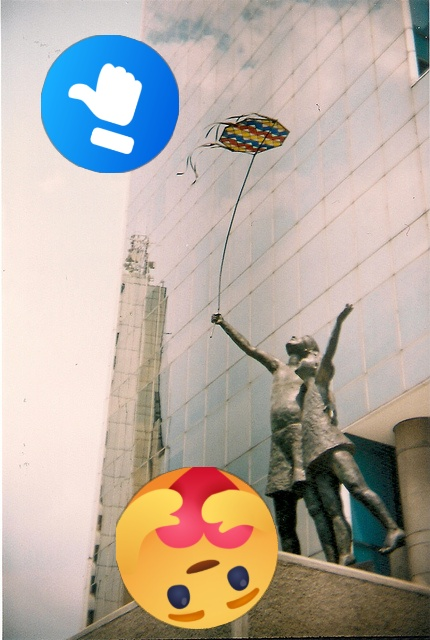care: (116, 467, 278, 629)
like: (41, 35, 179, 173)
